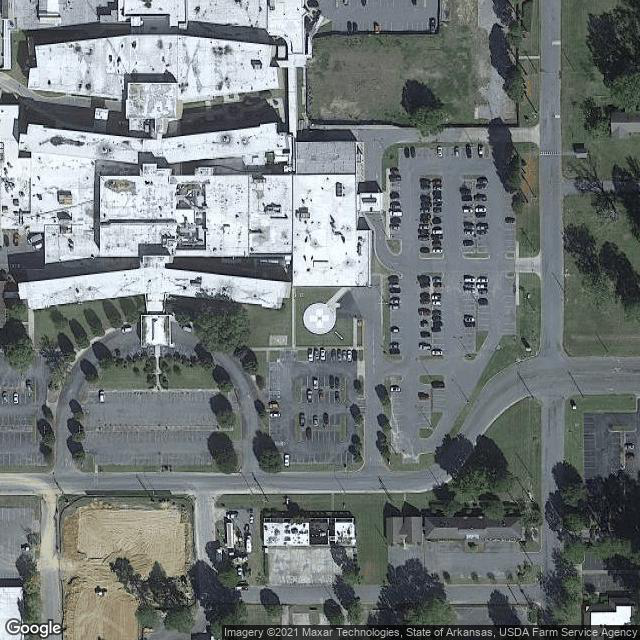Helipad: (304, 302, 338, 335)
